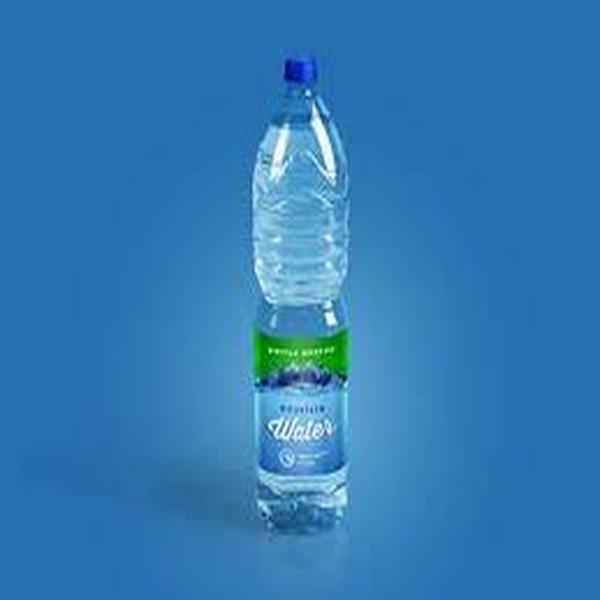tutuma: (243, 48, 356, 542)
